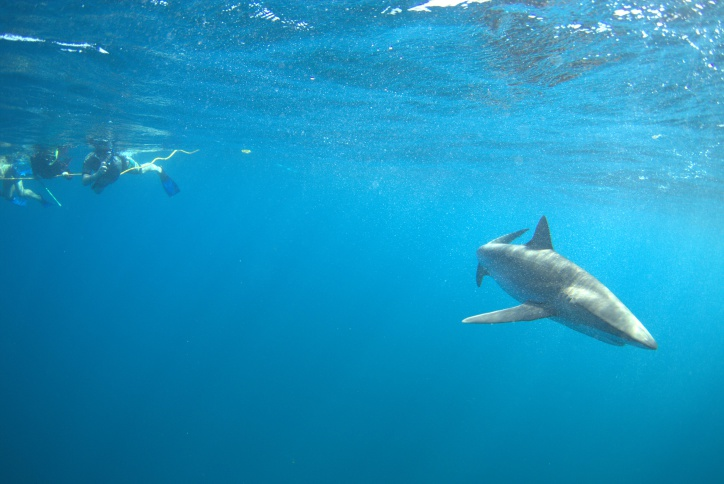Sedoso: (448, 212, 670, 357)
